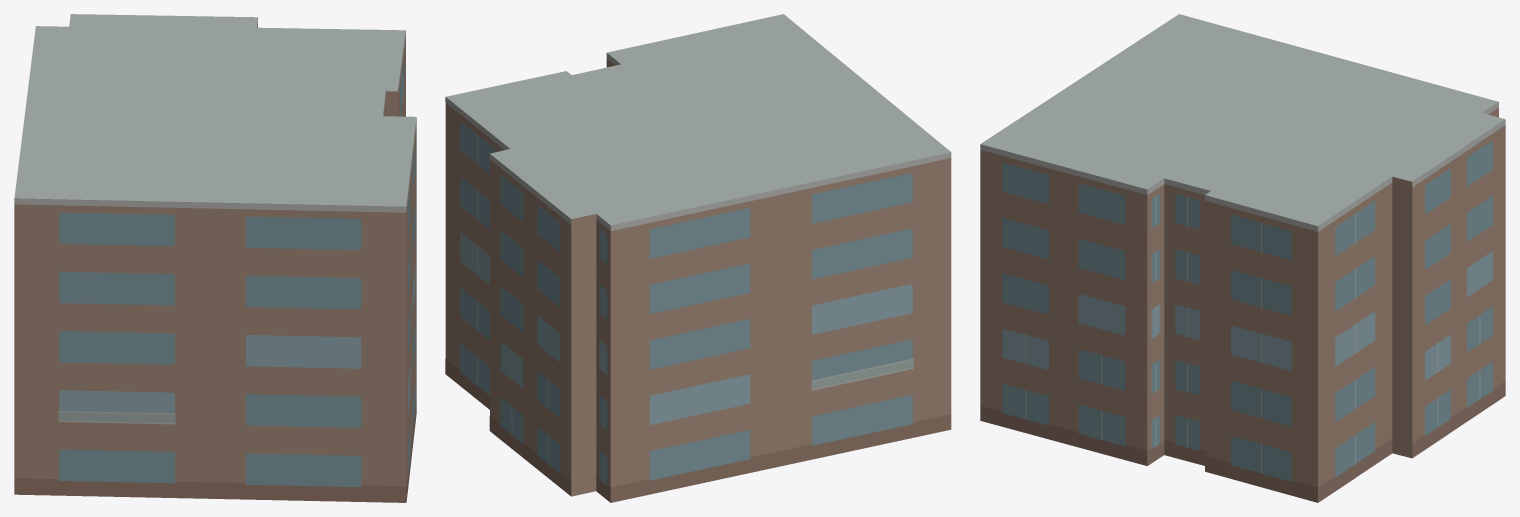
Rendered from survey-upis-32737415.glb.
The picture shows the model from 3 angles, left to right: view 1: azimuth 30°, elevation 25°; view 2: azimuth 150°, elevation 25°; view 3: azimuth 270°, elevation 25°; orthographic projection. The views are drawn at different scales.
Parts seen in each view (by area): view 1: survey-upis-32737415.tmp; view 2: survey-upis-32737415.tmp; view 3: survey-upis-32737415.tmp.
Boxes of the visible parts, x1,y1,x2,y2 form: survey-upis-32737415.tmp: (14, 14, 416, 502); survey-upis-32737415.tmp: (445, 14, 951, 502); survey-upis-32737415.tmp: (980, 14, 1505, 502).
Size of the model in its own units: 19.59 by 11.9 by 20.49.
